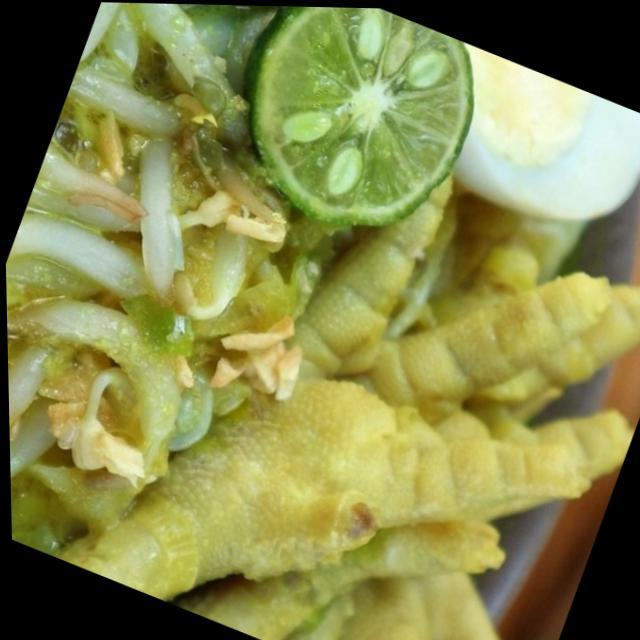Soto: (5, 3, 639, 639)
